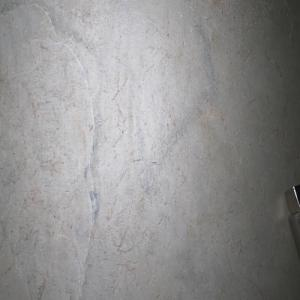MetalPart: (283, 182, 300, 255)
